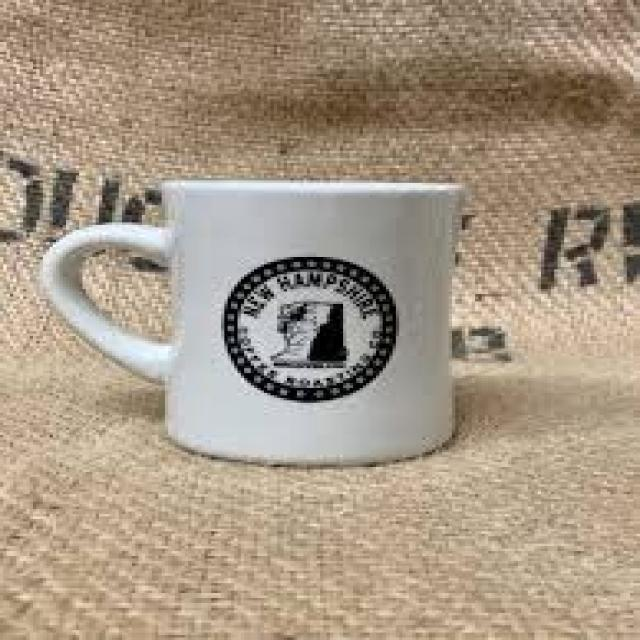taza: (41, 181, 468, 467)
